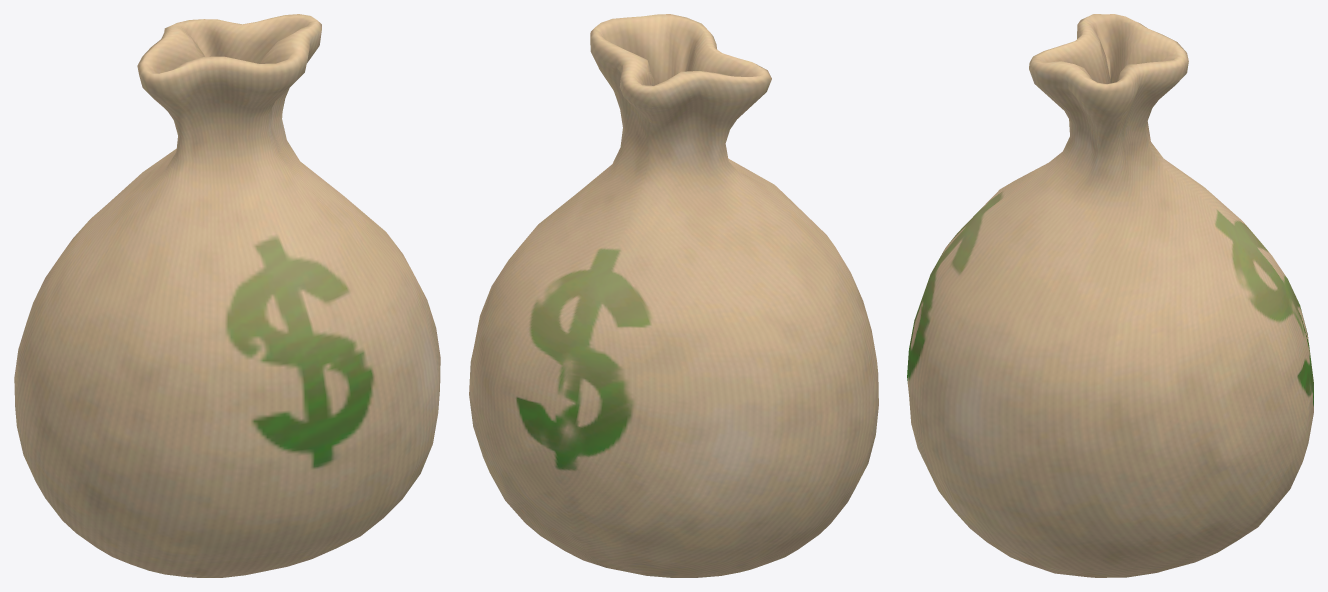
Rendered from money_bag.glb.
3 views of the same model, side by side, from view 1: azimuth 30°, elevation 25°; view 2: azimuth 150°, elevation 25°; view 3: azimuth 270°, elevation 25° (orthographic). The views are drawn at different scales.
Parts seen in each view (by area): view 1: Object_4; view 2: Object_4; view 3: Object_4.
Boxes of the visible parts, x1,y1,x2,y2 form: Object_4: (14, 14, 440, 577); Object_4: (469, 14, 878, 577); Object_4: (907, 14, 1313, 577).
Bounding box in the file's own units: 0.7028 × 0.9514 × 0.6849.
1 material, 1 textured.
